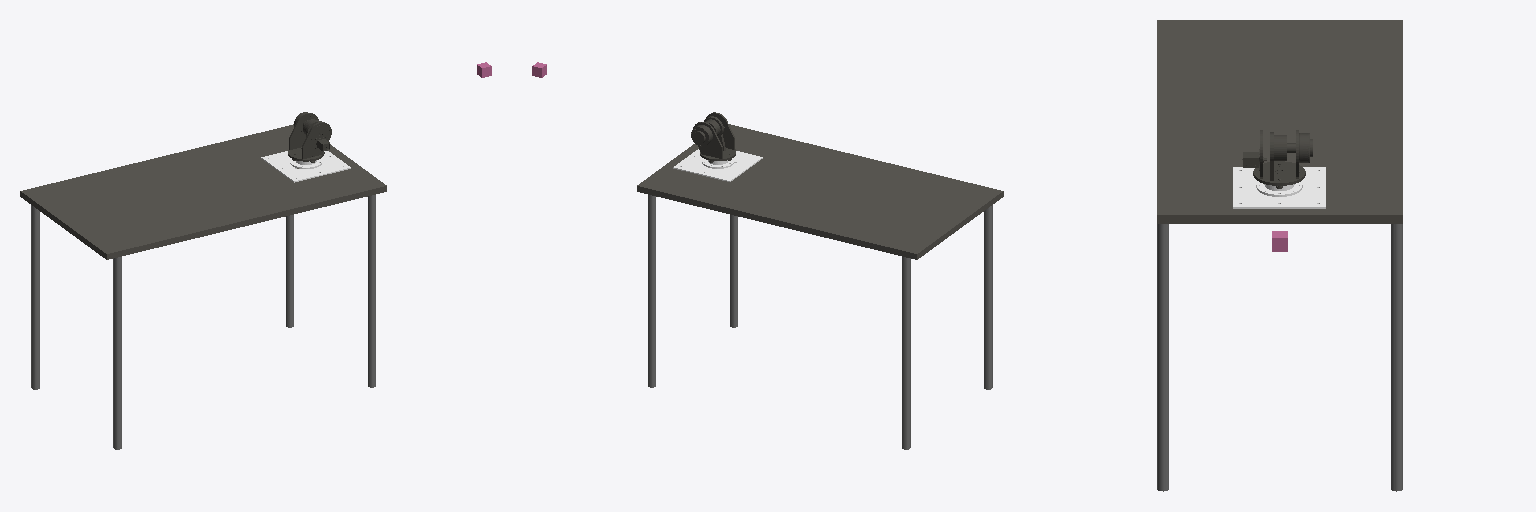
The robot description file, URDF, robot "daadbot":
<?xml version='1.0' encoding='utf-8'?>
<robot name="daadbot">
  <gazebo>
    <plugin filename="gz_ros2_control-system" name="gz_ros2_control::GazeboSimROS2ControlPlugin">
      <parameters>/home/maryammahmood/daadbot_manipulator_ws/install/daadbot_controller/share/daadbot_controller/config/pos_trajectory_controller.yaml</parameters>
    </plugin>
    <plugin filename="ignition-gazebo-forcetorque-system" name="ignition::gazebo::systems::ForceTorque">
            </plugin>
  </gazebo>
  <ros2_control name="Manipulator" type="system">
    <hardware>
      <plugin>gz_ros2_control/GazeboSimSystem</plugin>
    </hardware>
    <joint name="joint_1">
      <command_interface name="position">
        <param name="min">-3.14159</param>
        <param name="max">3.14159</param>
      </command_interface>
      <state_interface name="position" />
      <state_interface name="velocity" />
      <state_interface name="effort" />
    </joint>
  </ros2_control>
  <link name="table_top">
    <visual>
      <origin xyz="0 0 1.0" />
      <geometry>
        <box size="1.5 0.8 0.03" />
      </geometry>
      <material name="">
        <color rgba="0.388 0.376 0.357 1" />
      </material>
    </visual>
    <collision>
      <origin xyz="0 0 1.0" />
      <geometry>
        <box size="1.5 0.8 0.03" />
      </geometry>
    </collision>
    <inertial>
      <origin xyz="0 0 1.0" />
      <mass value="5.0" />
      <inertia ixx="0.1" ixy="0" ixz="0" iyy="0.1" iyz="0" izz="0.1" />
    </inertial>
  </link>
  <gazebo reference="table_top">
    <static>true</static>
    <surface>
      <contact>
        <ode>
          <kp>100000.0</kp>
          <kd>1000.0</kd>
        </ode>
      </contact>
      <friction>
        <ode>
          <mu>1.0</mu>
          <mu2>1.0</mu2>
        </ode>
      </friction>
    </surface>
  </gazebo>
  <link name="front_left_leg">
    <visual>
      <origin xyz="0 0 0.5" />
      <geometry>
        <cylinder length="1.0" radius="0.02" />
      </geometry>
      <material name="">
        <color rgba="0.5 0.5 0.5 1" />
      </material>
    </visual>
    <collision>
      <origin xyz="0 0 0.5" />
      <geometry>
        <cylinder length="1.0" radius="0.02" />
      </geometry>
    </collision>
    <inertial>
      <origin xyz="0 0 0.5" />
      <mass value="1.0" />
      <inertia ixx="0.01" ixy="0" ixz="0" iyy="0.01" iyz="0" izz="0.01" />
    </inertial>
  </link>
  <joint name="front_left_leg_joint" type="fixed">
    <parent link="table_top" />
    <child link="front_left_leg" />
    <origin xyz="0.68 0.38 0.0" />
  </joint>
  <link name="front_right_leg">
    <visual>
      <origin xyz="0 0 0.5" />
      <geometry>
        <cylinder length="1.0" radius="0.02" />
      </geometry>
      <material name="">
        <color rgba="0.5 0.5 0.5 1" />
      </material>
    </visual>
    <collision>
      <origin xyz="0 0 0.5" />
      <geometry>
        <cylinder length="1.0" radius="0.02" />
      </geometry>
    </collision>
    <inertial>
      <origin xyz="0 0 0.5" />
      <mass value="1.0" />
      <inertia ixx="0.01" ixy="0" ixz="0" iyy="0.01" iyz="0" izz="0.01" />
    </inertial>
  </link>
  <joint name="front_right_leg_joint" type="fixed">
    <parent link="table_top" />
    <child link="front_right_leg" />
    <origin xyz="0.68 -0.38 0.0" />
  </joint>
  <link name="back_left_leg">
    <visual>
      <origin xyz="0 0 0.5" />
      <geometry>
        <cylinder length="1.0" radius="0.02" />
      </geometry>
      <material name="">
        <color rgba="0.5 0.5 0.5 1" />
      </material>
    </visual>
    <collision>
      <origin xyz="0 0 0.5" />
      <geometry>
        <cylinder length="1.0" radius="0.02" />
      </geometry>
    </collision>
    <inertial>
      <origin xyz="0 0 0.5" />
      <mass value="1.0" />
      <inertia ixx="0.01" ixy="0" ixz="0" iyy="0.01" iyz="0" izz="0.01" />
    </inertial>
  </link>
  <joint name="back_left_leg_joint" type="fixed">
    <parent link="table_top" />
    <child link="back_left_leg" />
    <origin xyz="-0.68 0.38 0.0" />
  </joint>
  <link name="back_right_leg">
    <visual>
      <origin xyz="0 0 0.5" />
      <geometry>
        <cylinder length="1.0" radius="0.02" />
      </geometry>
      <material name="">
        <color rgba="0.5 0.5 0.5 1" />
      </material>
    </visual>
    <collision>
      <origin xyz="0 0 0.5" />
      <geometry>
        <cylinder length="1.0" radius="0.02" />
      </geometry>
    </collision>
    <inertial>
      <origin xyz="0 0 0.5" />
      <mass value="1.0" />
      <inertia ixx="0.01" ixy="0" ixz="0" iyy="0.01" iyz="0" izz="0.01" />
    </inertial>
  </link>
  <joint name="back_right_leg_joint" type="fixed">
    <parent link="table_top" />
    <child link="back_right_leg" />
    <origin xyz="-0.68 -0.38 0.0" />
  </joint>
  <link name="world" />
  <joint name="table_joint" type="fixed">
    <parent link="world" />
    <child link="table_top" />
    <origin rpy="0 0 0" xyz="0 0 0" />
  </joint>
  <link name="camera_link">
    <visual>
      <geometry>
        <box size="0.05 0.05 0.05" />
      </geometry>
      <material name="" />
    </visual>
  </link>
  <joint name="camera_joint" type="fixed">
    <parent link="table_top" />
    <child link="camera_link" />
    <origin rpy="0 0 0" xyz="1.5 0.0 1.27" />
  </joint>
  <joint name="base_joint" type="fixed">
    <parent link="table_top" />
    <child link="base_link" />
    <origin rpy="0 0 0" xyz="0.55 0 1.017" />
  </joint>
  <link name="base_link">
    <inertial>
      <origin rpy="0 0 0" xyz="-0.00246645540256236 -0.00131466478904116 0.00320374562257973" />
      <mass value="6.91122989464636" />
      <inertia ixx="0.0466171750852481" ixy="0.00010076855342015" ixz="5.14819747192778E-08" iyy="0.0464821203083076" iyz="-1.44621889265211E-07" izz="0.0929840869855057" />
    </inertial>
    <visual>
      <origin rpy="0 0 0" xyz="0 0 0" />
      <geometry>
        <mesh filename="package://daadbot_desc/meshes/base_link.STL" />
      </geometry>
      <material name="">
        <color rgba="1 1 1 1" />
      </material>
    </visual>
    <collision>
      <origin rpy="0 0 0" xyz="0 0 0" />
      <geometry>
        <mesh filename="package://daadbot_desc/meshes/base_link.STL" />
      </geometry>
    </collision>
  </link>
  <link name="Link_1">
    <inertial>
      <origin rpy="0 0 0" xyz="0.0222146013900772 2.73568109690481E-06 0.0747841784291177" />
      <mass value="2.34948803406793" />
      <inertia ixx="0.00332922517000865" ixy="1.64875308454708E-07" ixz="-0.000433929392474112" iyy="0.00524724735039028" iyz="2.38505609352415E-07" izz="0.00419520671173006" />
    </inertial>
    <visual>
      <origin rpy="0 0 0" xyz="0 0 0" />
      <geometry>
        <mesh filename="package://daadbot_desc/meshes/Link_1.STL" />
      </geometry>
      <material name="">
        <color rgba="0.329 0.322 0.302 1" />
      </material>
    </visual>
    <collision>
      <origin rpy="0 0 0" xyz="0 0 0" />
      <geometry>
        <mesh filename="package://daadbot_desc/meshes/Link_1.STL" />
      </geometry>
    </collision>
  </link>
  <joint name="joint_1" type="revolute">
    <origin rpy="0 0 0" xyz="-0.0029638 -0.0015759 0.04796" />
    <parent link="base_link" />
    <child link="Link_1" />
    <axis xyz="0 0 -1" />
    <limit effort="200.0" lower="-0.1" upper="3.2" velocity="12.776" />
  </joint>
  <link name="daadbot/joint_1/tcp_fts_sensor_joint_1" />
  <joint name="tcp_fts_joint_1" type="fixed">
    <parent link="base_link" />
    <child link="daadbot/joint_1/tcp_fts_sensor_joint_1" />
    <origin rpy="0 0 0" xyz="-0.0029638 -0.0015759 0.04796" />
  </joint>
  <gazebo reference="joint_1">
    <sensor name="tcp_fts_sensor_joint_1" type="force_torque">
      <always_on>true</always_on>
      <update_rate>1000</update_rate>
      <visualize>true</visualize>
      <force_torque>
        <frame>child</frame>
        <measure_direction>child_to_parent</measure_direction>
      </force_torque>
      <pose>0 0 0 0 0 0</pose>
    </sensor>
  </gazebo>
</robot>

--- What the picture shows (computed from the rendered views, not written in the file) ---
3 views of the same robot in one strip: view 1: azimuth 30°, elevation 25°; view 2: azimuth 150°, elevation 25°; view 3: azimuth 270°, elevation 25° (orthographic).
Model daadbot with 10 links and 9 joints (1 revolute, 8 fixed), rooted at world, posed every joint at zero.
Links seen in each view (by area): view 1: table_top, back_right_leg, Link_1, back_left_leg, front_right_leg, base_link, front_left_leg; view 2: table_top, back_left_leg, back_right_leg, Link_1, front_left_leg, base_link, front_right_leg; view 3: table_top, front_left_leg, front_right_leg, base_link, Link_1.
Boxes of the visible links, x1=… form: table_top: x1=20, y1=124, x2=386, y2=259; back_right_leg: x1=113, y1=257, x2=121, y2=449; Link_1: x1=288, y1=112, x2=331, y2=162; back_left_leg: x1=31, y1=205, x2=39, y2=389; front_right_leg: x1=368, y1=195, x2=375, y2=387; base_link: x1=261, y1=151, x2=350, y2=182; front_left_leg: x1=286, y1=215, x2=293, y2=327; table_top: x1=637, y1=124, x2=1003, y2=259; back_left_leg: x1=902, y1=257, x2=910, y2=449; back_right_leg: x1=984, y1=205, x2=992, y2=389; Link_1: x1=691, y1=112, x2=735, y2=162; front_left_leg: x1=648, y1=195, x2=655, y2=387; base_link: x1=673, y1=149, x2=762, y2=181; front_right_leg: x1=730, y1=215, x2=737, y2=327; table_top: x1=1157, y1=20, x2=1402, y2=223; front_left_leg: x1=1391, y1=224, x2=1402, y2=491; front_right_leg: x1=1157, y1=224, x2=1168, y2=491; base_link: x1=1233, y1=167, x2=1325, y2=208; Link_1: x1=1242, y1=130, x2=1312, y2=188.
Bounding box of the posed robot: 2.27 × 0.8 × 1.29 m (x, y, z).
2 mesh visuals loaded from 2 distinct referenced files (2 binary STL).
